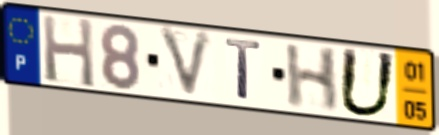8: (97, 21, 143, 92)
H: (39, 13, 98, 91), (283, 43, 340, 114)
T: (223, 36, 264, 104)
U: (336, 45, 400, 120)
V: (155, 24, 217, 103)
